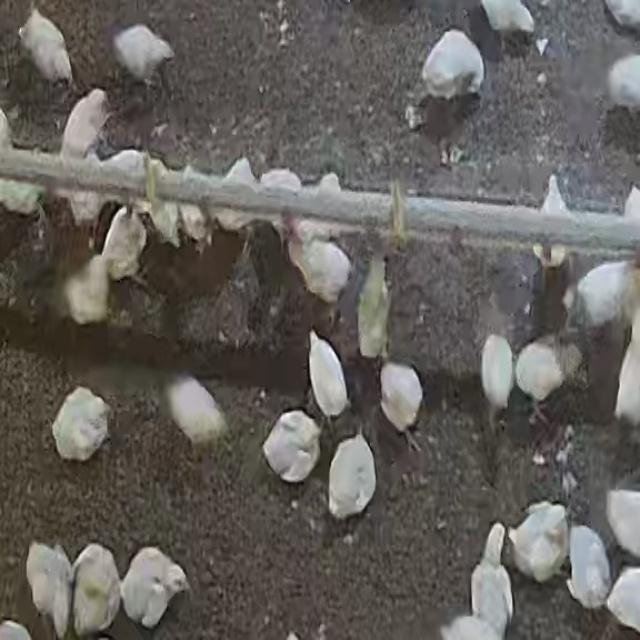chicken: (411, 31, 487, 111), (119, 546, 189, 630), (507, 500, 569, 583), (70, 543, 123, 636), (26, 540, 76, 638), (51, 384, 111, 462), (303, 330, 355, 420), (468, 524, 512, 630), (262, 409, 323, 482), (325, 434, 376, 520), (166, 374, 226, 447), (284, 242, 348, 310), (571, 261, 631, 331), (18, 10, 75, 82), (565, 526, 613, 610), (111, 27, 177, 87), (514, 338, 570, 408), (536, 173, 574, 267), (378, 360, 424, 436), (100, 212, 145, 287), (217, 156, 258, 237), (298, 173, 349, 238), (612, 309, 640, 427), (355, 259, 389, 352), (479, 332, 515, 418), (59, 261, 109, 320), (63, 87, 110, 149), (604, 487, 640, 563), (258, 168, 297, 233), (72, 149, 103, 228), (0, 177, 52, 221), (182, 165, 208, 249), (605, 568, 640, 630), (153, 159, 176, 252), (606, 52, 640, 112), (478, 0, 534, 34), (597, 0, 640, 34), (100, 148, 146, 178), (622, 184, 640, 227)
